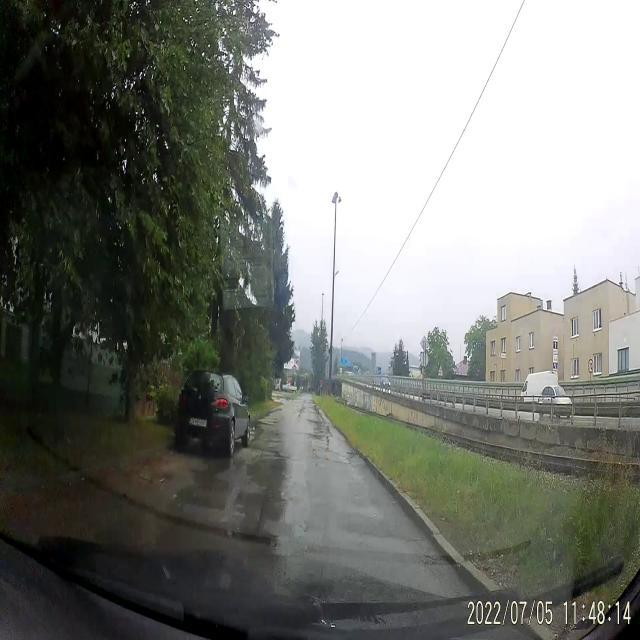Pothole: (348, 522, 409, 558), (310, 429, 342, 472)
